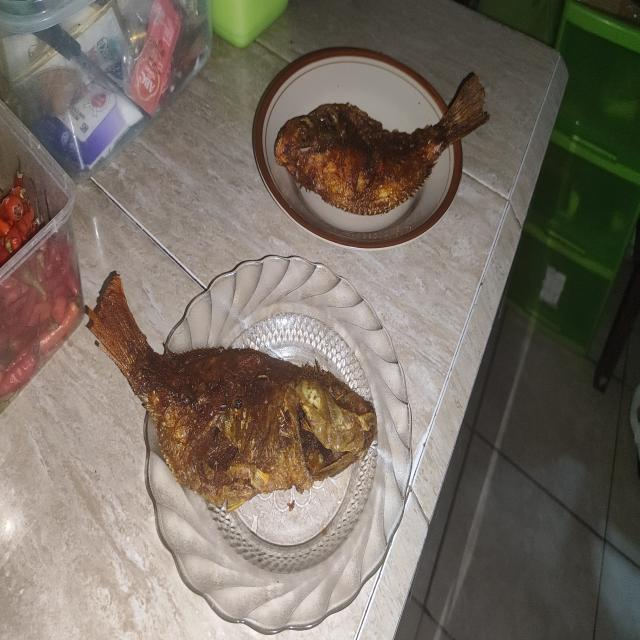ikan_mujair: (86, 273, 376, 510), (274, 73, 490, 215)
